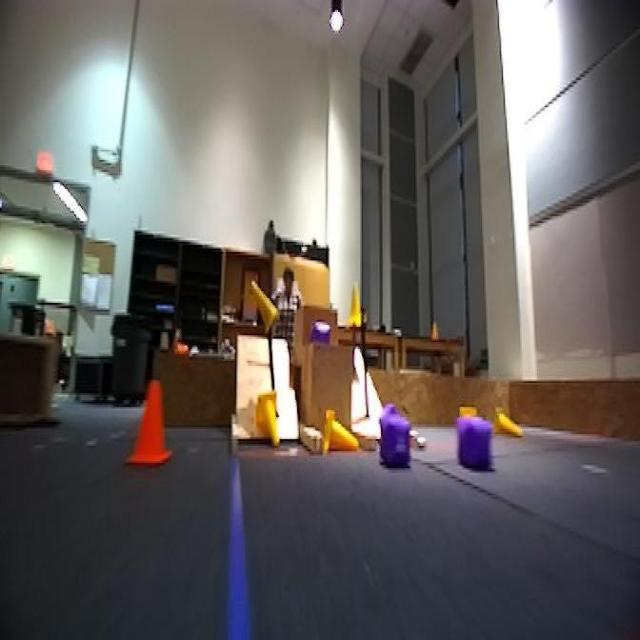frc_cone: (318, 408, 361, 462), (251, 392, 283, 448), (252, 278, 281, 334), (346, 281, 364, 328), (495, 407, 524, 434)
frc_cube: (452, 411, 496, 478), (376, 409, 415, 468), (312, 320, 333, 346)
